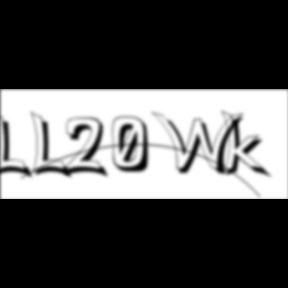0: (112, 115, 158, 174)
2: (63, 117, 113, 181)
L: (31, 110, 75, 182), (1, 110, 36, 182)
W: (151, 110, 249, 178)
k: (222, 108, 274, 181)
